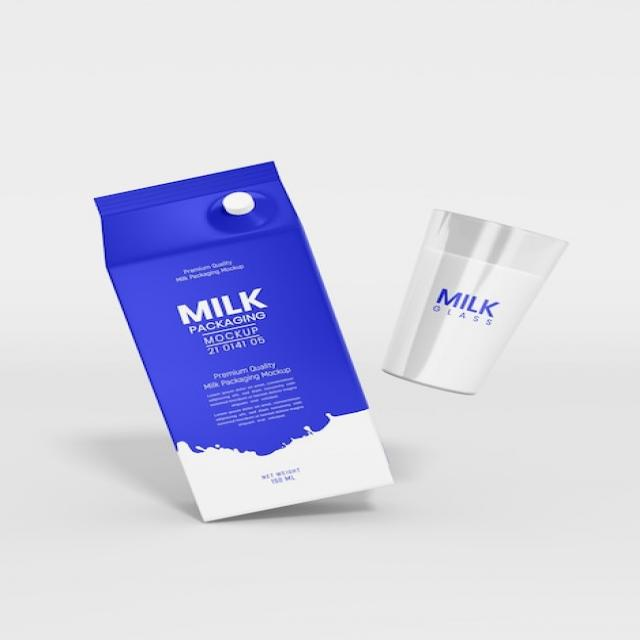non_white_jug: (45, 166, 415, 545)
